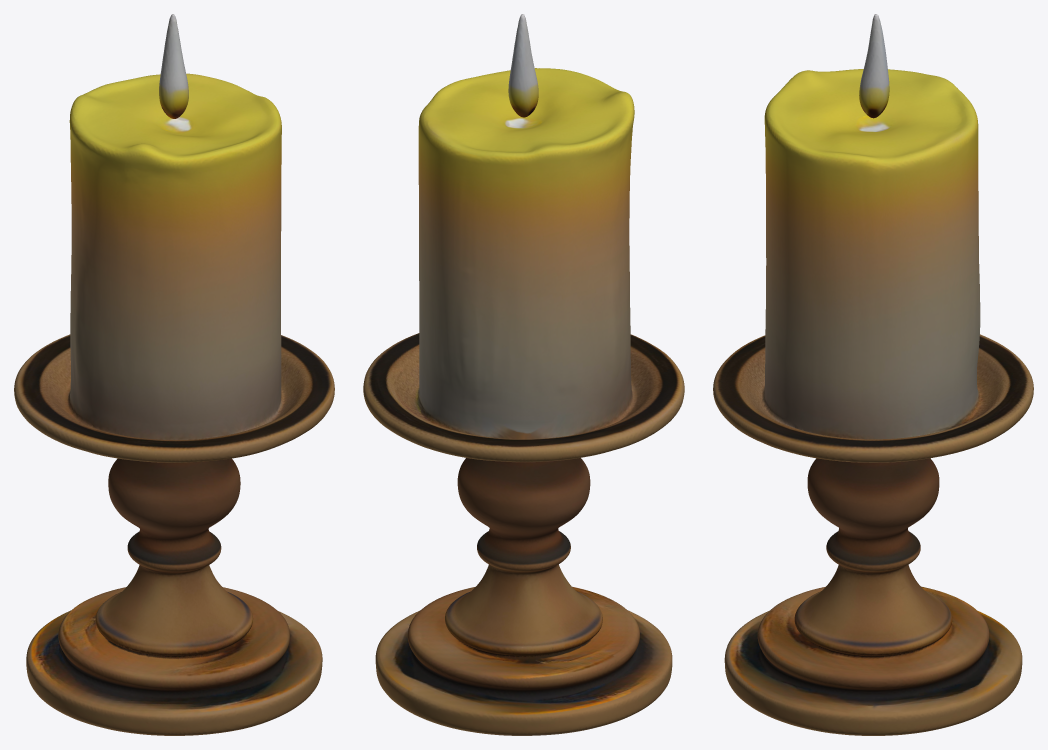
File: candle-07.glb
3 views of the same model, side by side, from view 1: azimuth 30°, elevation 25°; view 2: azimuth 150°, elevation 25°; view 3: azimuth 270°, elevation 25° (orthographic).
Visible parts, largest first — view 1: tripo_node_615072f7-da4c-46de-a75a-5f6536023d3a; view 2: tripo_node_615072f7-da4c-46de-a75a-5f6536023d3a; view 3: tripo_node_615072f7-da4c-46de-a75a-5f6536023d3a.
Part boxes in pixels (x1,y1,x2,y2): tripo_node_615072f7-da4c-46de-a75a-5f6536023d3a: (14, 14, 334, 735); tripo_node_615072f7-da4c-46de-a75a-5f6536023d3a: (363, 14, 684, 735); tripo_node_615072f7-da4c-46de-a75a-5f6536023d3a: (713, 14, 1033, 735).
Bounding box in the file's own units: 0.4163 × 0.9491 × 0.4145.
Materials: 1 (1 with a texture image).
